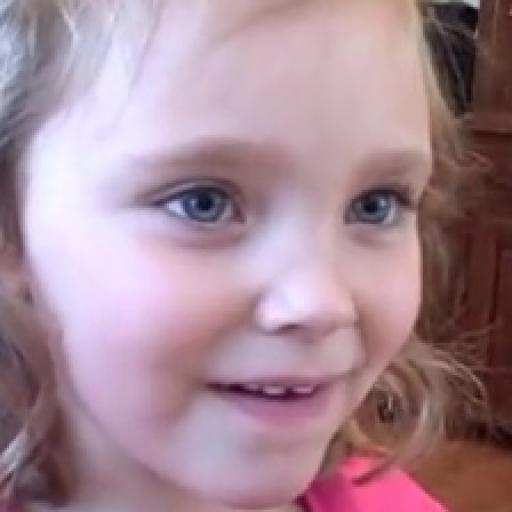Autism: (32, 5, 424, 512)
